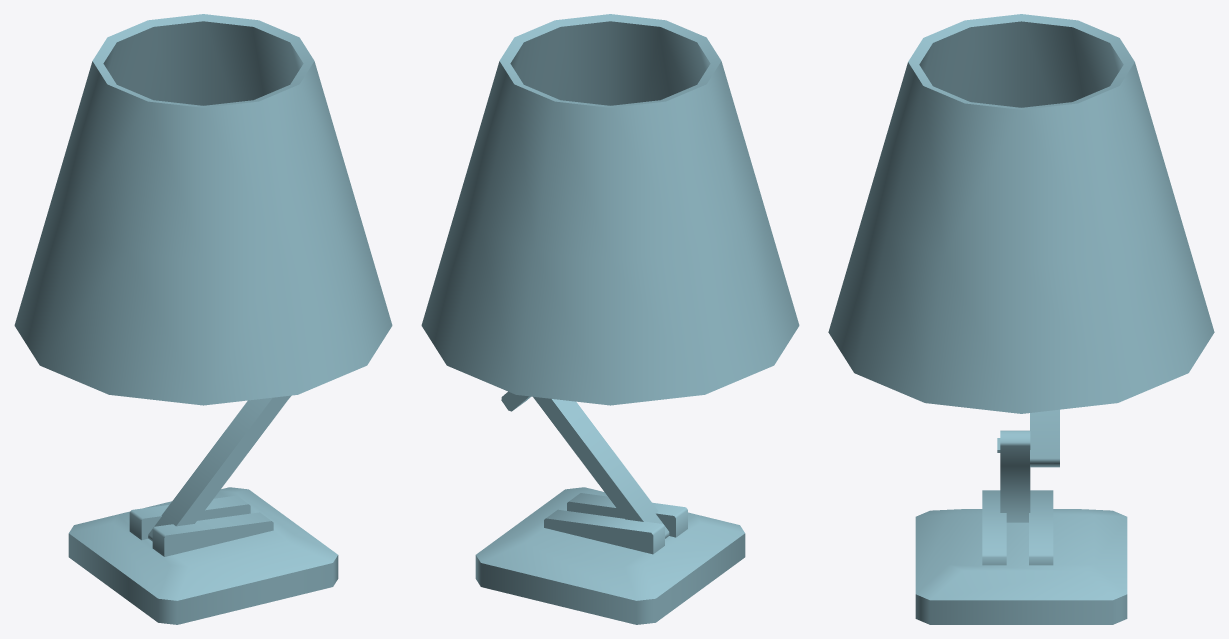
Rendered from lo_Prop_Lamp_A.fbx.
The picture shows the model from 3 angles, left to right: view 1: azimuth 30°, elevation 25°; view 2: azimuth 150°, elevation 25°; view 3: azimuth 270°, elevation 25°; orthographic projection. The views are drawn at different scales.
Visible parts, largest first — view 1: lo_Prop_Lamp_A_LOD0; view 2: lo_Prop_Lamp_A_LOD0; view 3: lo_Prop_Lamp_A_LOD0.
Part boxes in pixels (x1=…): lo_Prop_Lamp_A_LOD0: x1=14, y1=14, x2=392, y2=624; lo_Prop_Lamp_A_LOD0: x1=421, y1=14, x2=799, y2=624; lo_Prop_Lamp_A_LOD0: x1=828, y1=14, x2=1214, y2=624.
Size of what is drawn, in the model's own units: 0.495 by 0.7328 by 0.495.
